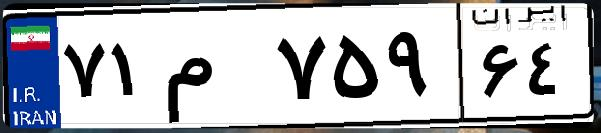1: (110, 28, 158, 98)
4: (525, 38, 570, 115)
5: (330, 28, 385, 110)
6: (475, 38, 525, 113)
7: (270, 28, 330, 110), (57, 26, 110, 100)
9: (385, 28, 445, 110)
م: (158, 20, 270, 120)
